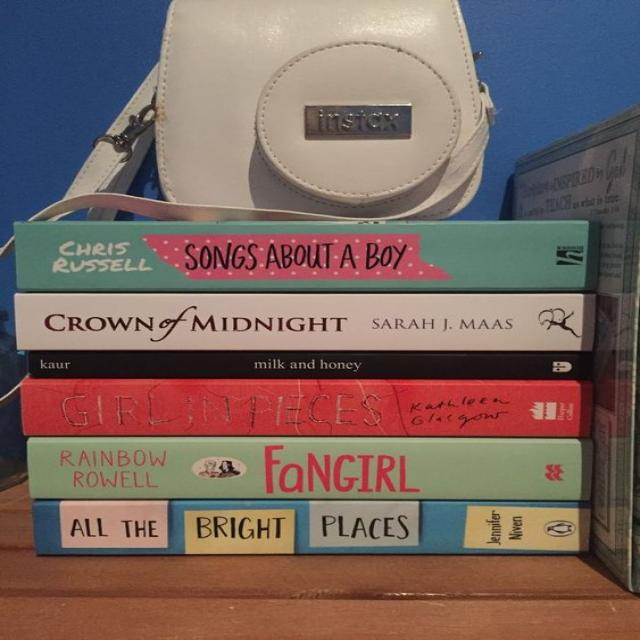book: (16, 221, 595, 291), (31, 439, 589, 500), (22, 378, 590, 437), (16, 293, 593, 351), (34, 499, 589, 554), (27, 352, 591, 380)
camera: (108, 0, 492, 219)
